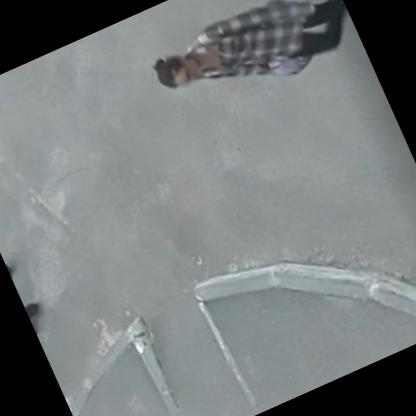Human Body: (135, 0, 363, 133)
